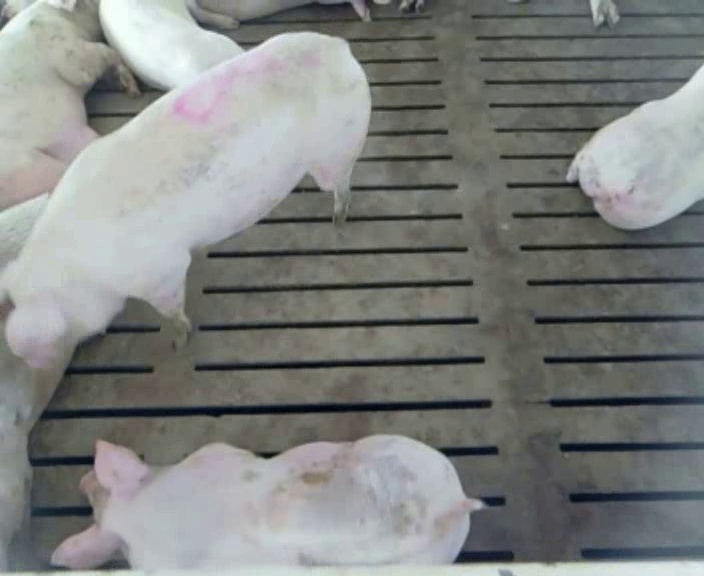pig: (0, 33, 370, 368), (52, 435, 481, 570), (0, 2, 139, 209), (567, 65, 703, 228), (99, 1, 242, 89)
